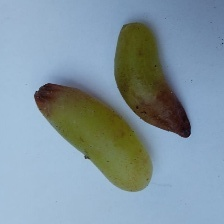grapes: (16, 21, 207, 194)
